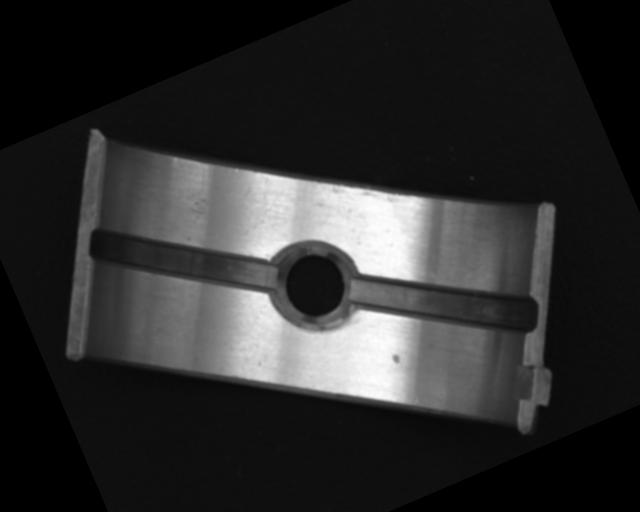bruise: (389, 352, 403, 367)
gap: (82, 171, 282, 349), (345, 215, 545, 389)
hole: (263, 234, 362, 339)
